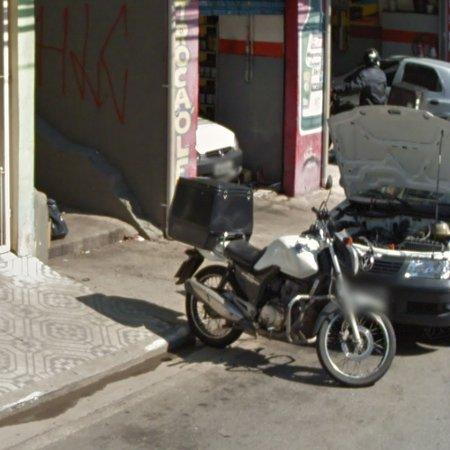motorcycles: (180, 208, 396, 386)
